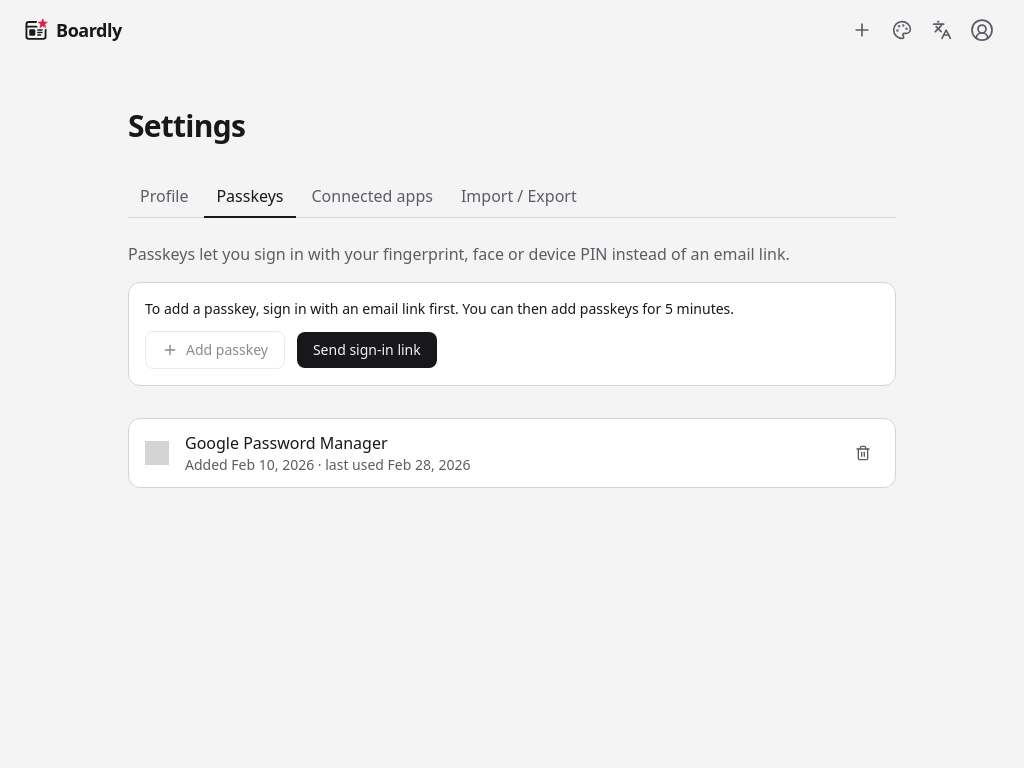
Test: deleting a passkey › keeps the passkey when cancelled
Click the button named "Delete passkey Google Password Manager": (863, 453) [847,437,879,469]
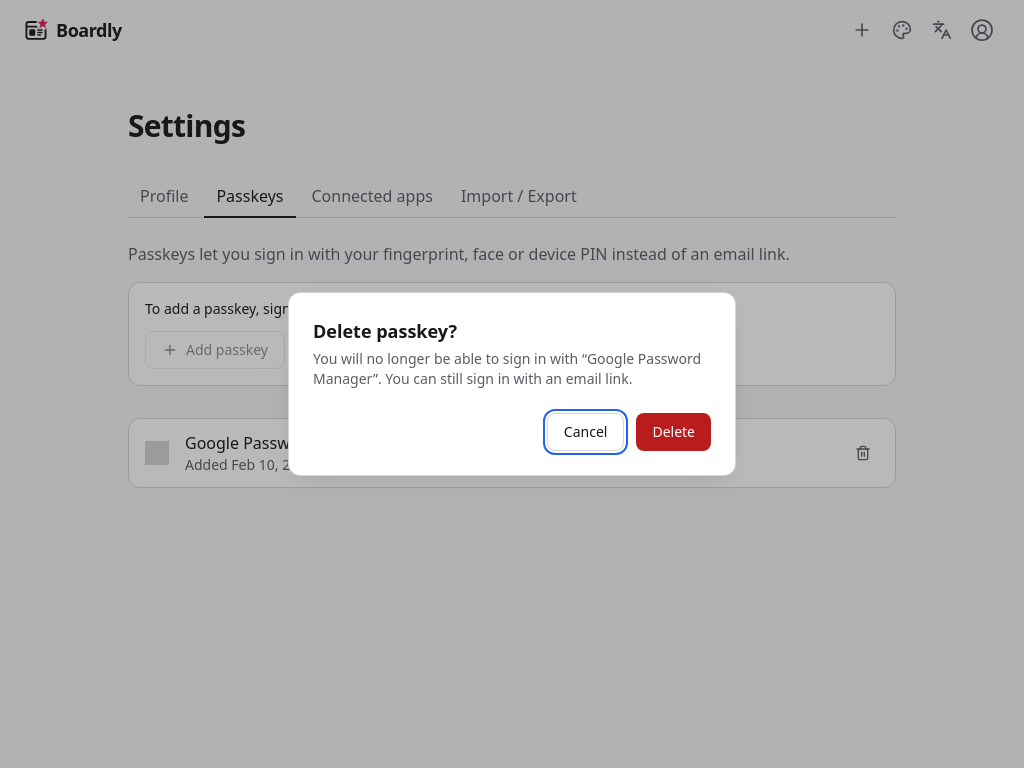
Click the button "Cancel": (586, 432) [547,413,624,451]
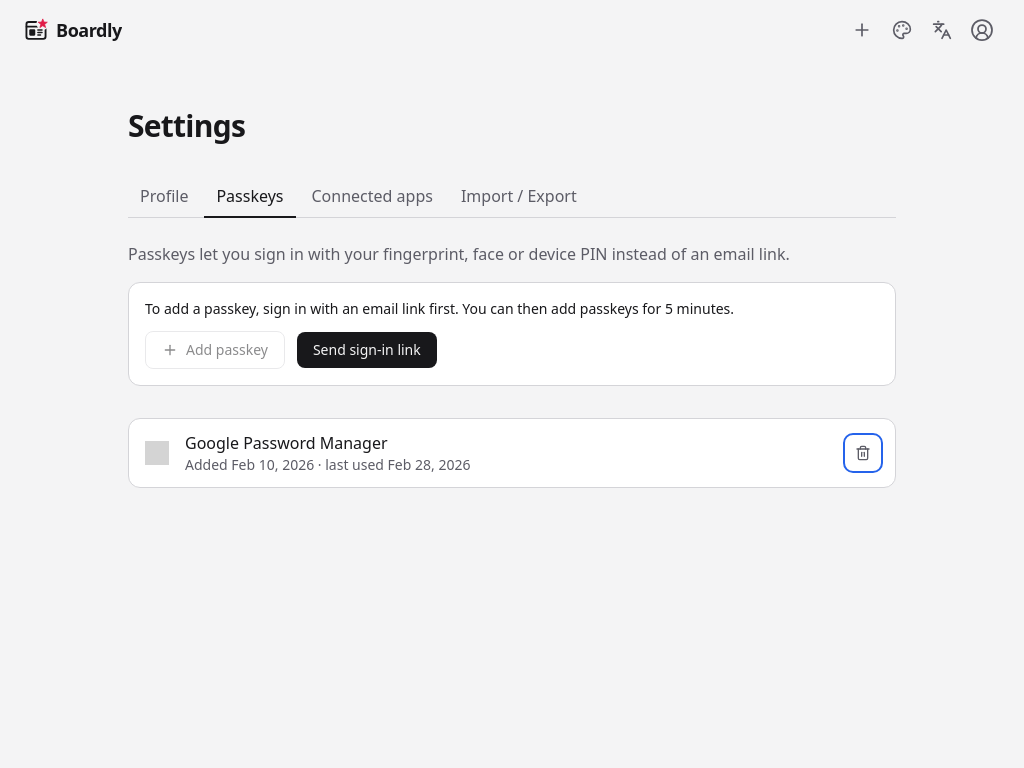
Expected: the text "Google Password Manager" is shown, [185,432,388,454]
Result: the dialog is gone
